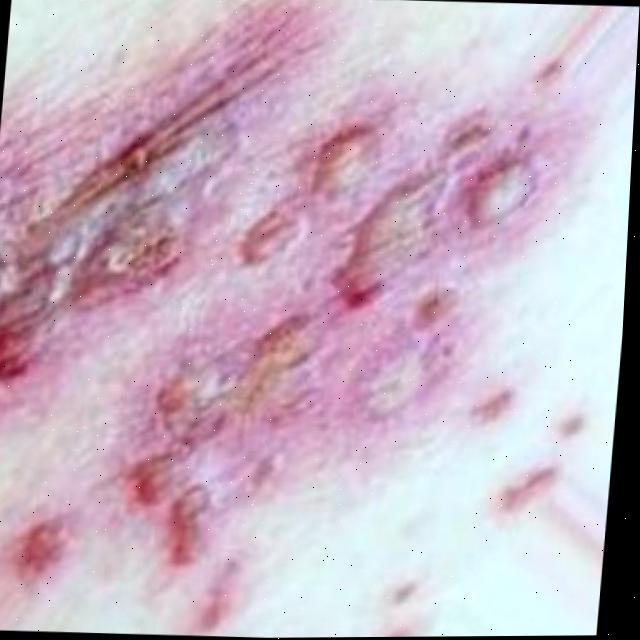Shingles: (0, 19, 624, 640)
